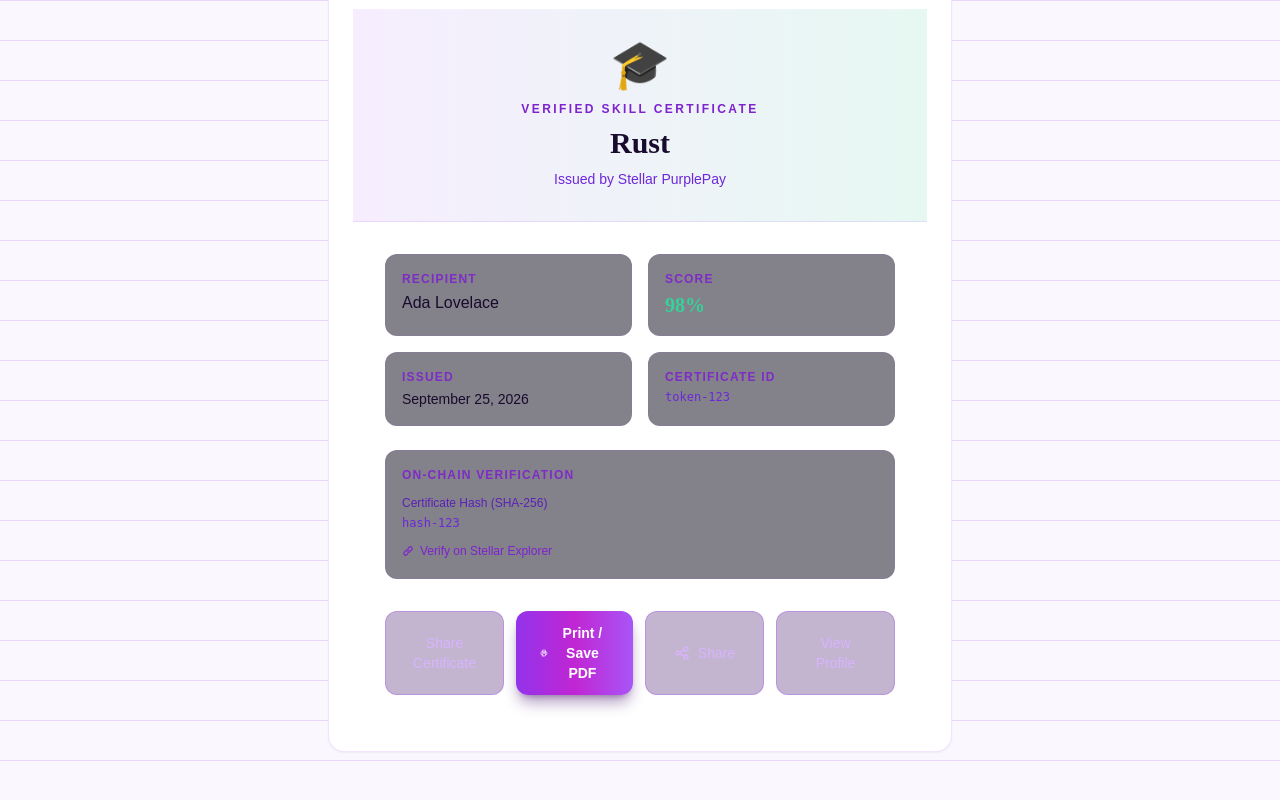
Test: CertificatePage sharing › copies the public certificate URL on desktop
(page scrolled)
Click the button "Share Certificate" at (444, 653), box [385,611,504,695]
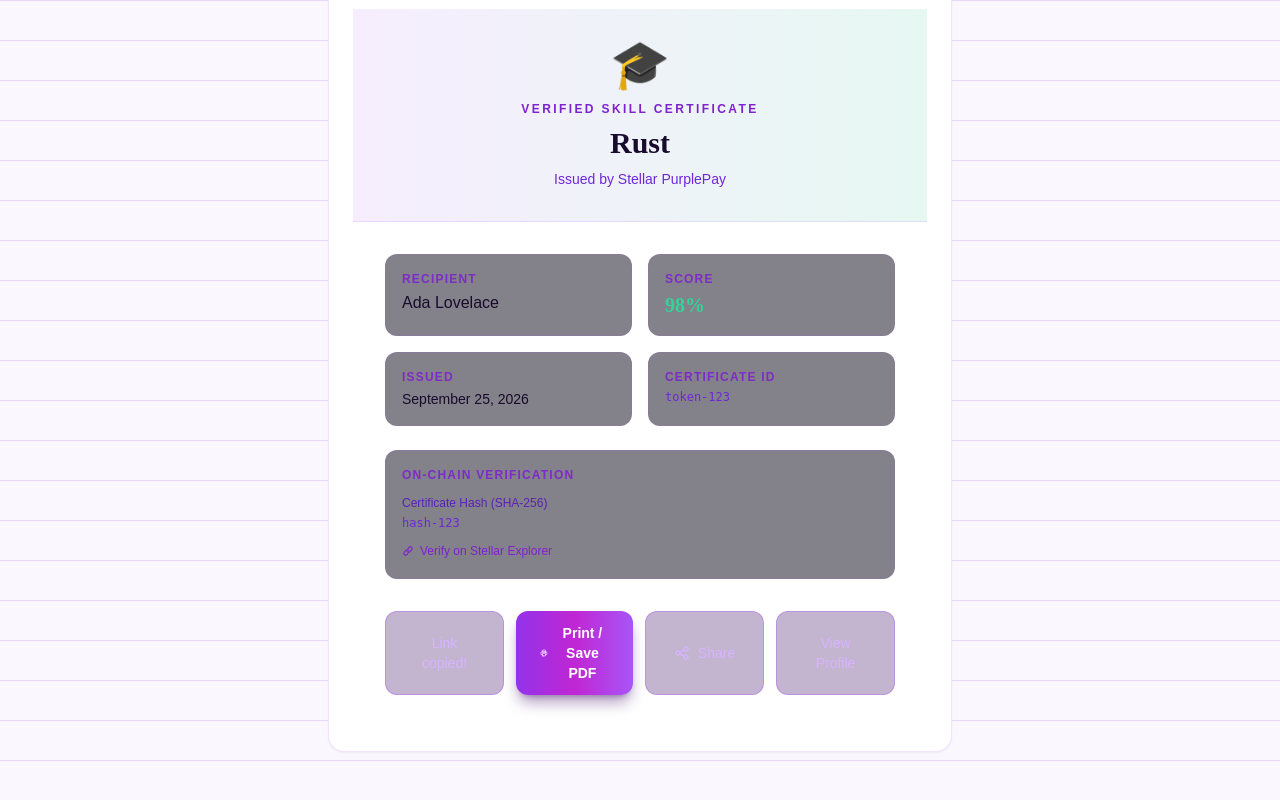
Expected: the button "Link copied!" is shown, [385,611,504,695]
